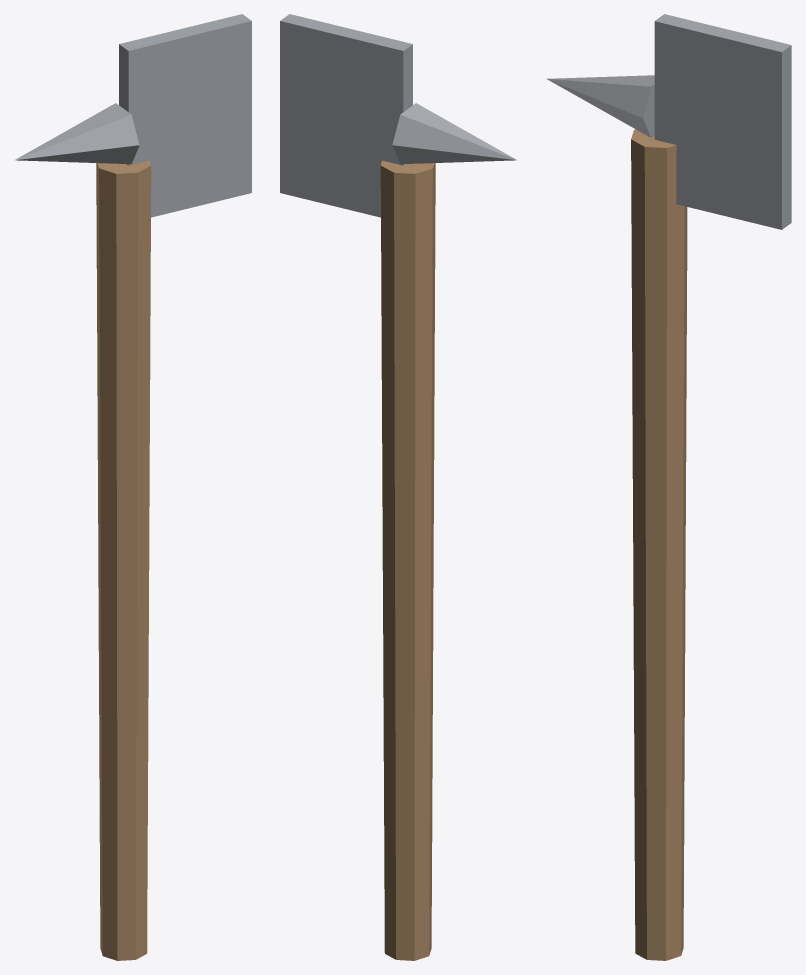
File: axe_fire.glb
3 renders of one model, left to right at view 1: azimuth 30°, elevation 25°; view 2: azimuth 150°, elevation 25°; view 3: azimuth 330°, elevation 25°, orthographic. The views are drawn at different scales.
Visible parts, largest first — view 1: axe_fire; view 2: axe_fire; view 3: axe_fire.
Boxes of the visible parts, x1,y1,x2,y2 form: axe_fire: (15, 14, 251, 960); axe_fire: (280, 14, 516, 960); axe_fire: (546, 14, 791, 960).
Bounding box in the file's own units: 0.17 × 0.63 × 0.04.
